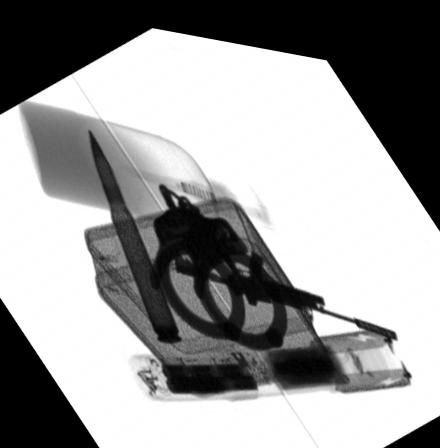Baton: (128, 312, 410, 397)
Bullet: (88, 125, 182, 336)
Gun: (172, 241, 398, 327)
HandCuffs: (148, 178, 287, 340)
